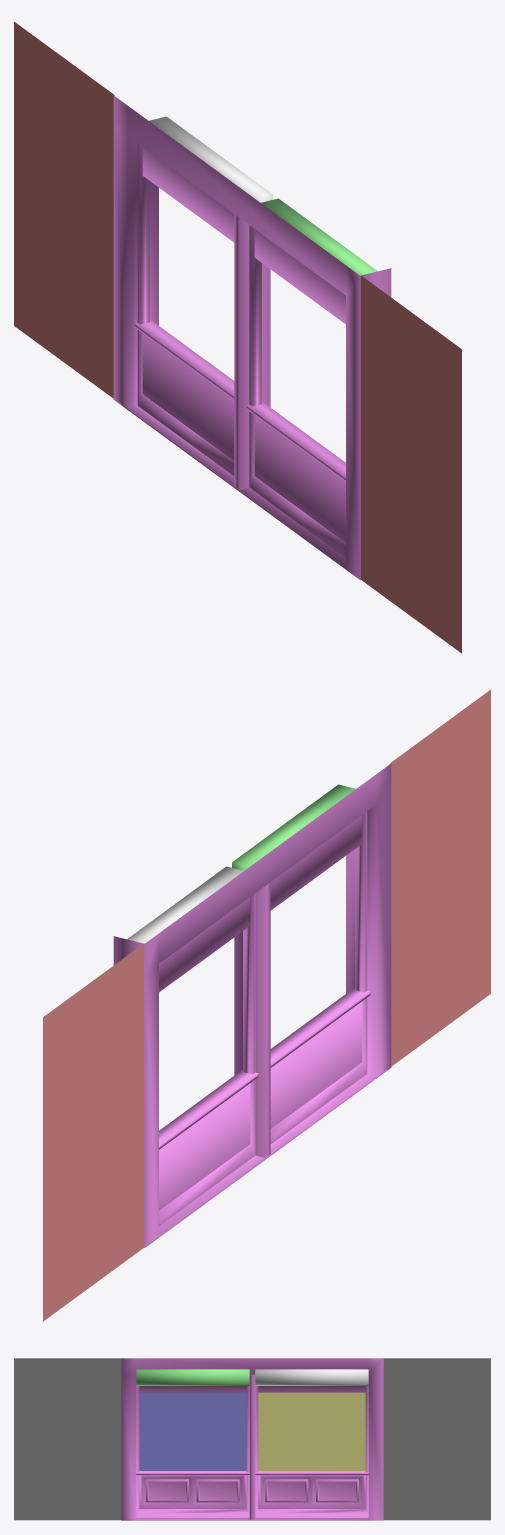
File: SM_shopFront_03a.gltf
3 renders of one model, top to bottom at view 1: azimuth 30°, elevation 25°; view 2: azimuth 150°, elevation 25°; view 3: azimuth 270°, elevation 25°, orthographic. The views are drawn at different scales.
Parts seen in each view (by area): view 1: SM_shopFront_03a; view 2: SM_shopFront_03a; view 3: SM_shopFront_03a.
Part boxes in pixels (x1=…): SM_shopFront_03a: x1=14, y1=21, x2=461, y2=653; SM_shopFront_03a: x1=43, y1=689, x2=490, y2=1321; SM_shopFront_03a: x1=14, y1=1358, x2=490, y2=1520.
Size of the model in its own units: 0.4 by 3 by 8.
